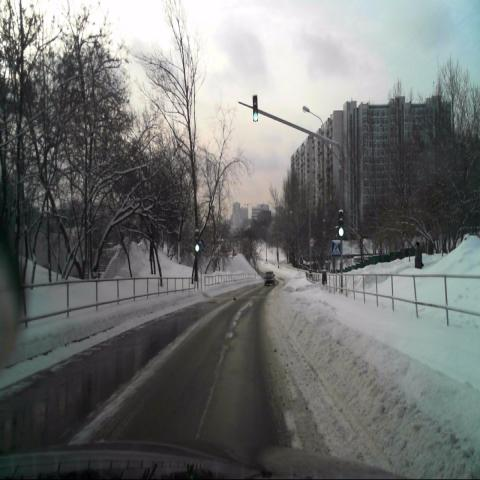5_19_1: (331, 241, 341, 258)
